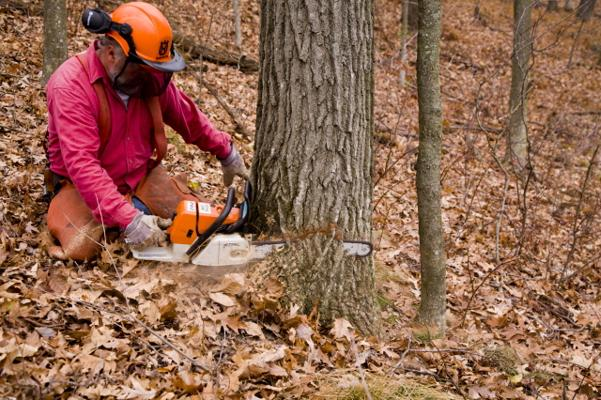person: (41, 1, 252, 264)
